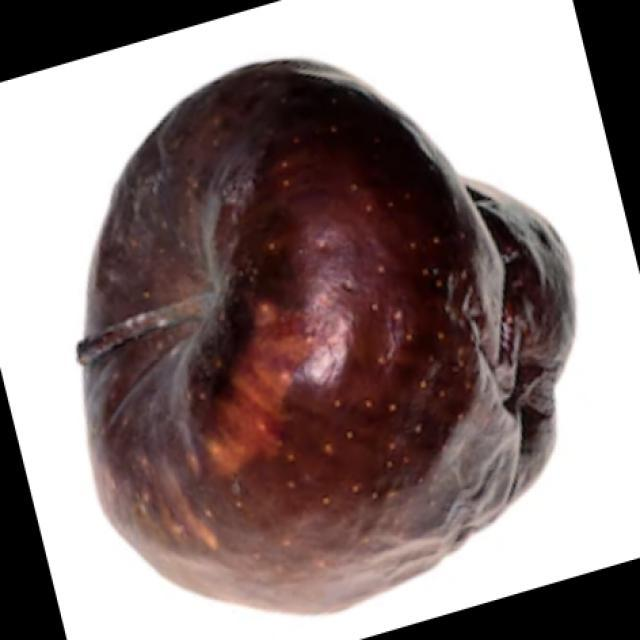Rotten: (87, 45, 600, 600)
